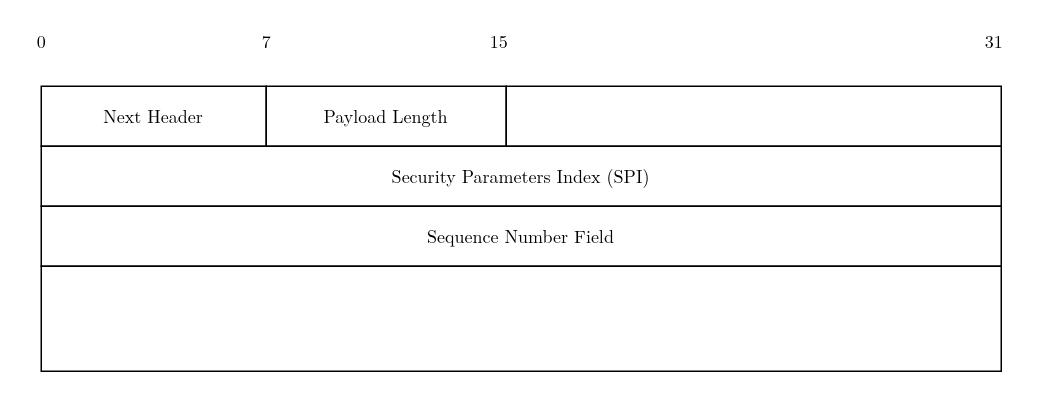
This 1041x398 diagram has some shape labels left out. Here are the shapes that lost their labels. From the top down, the centre of each, then its label:
At (753,115): "Reserved".
At (520,318): "Integrity Check Value (ICV) - variable".
